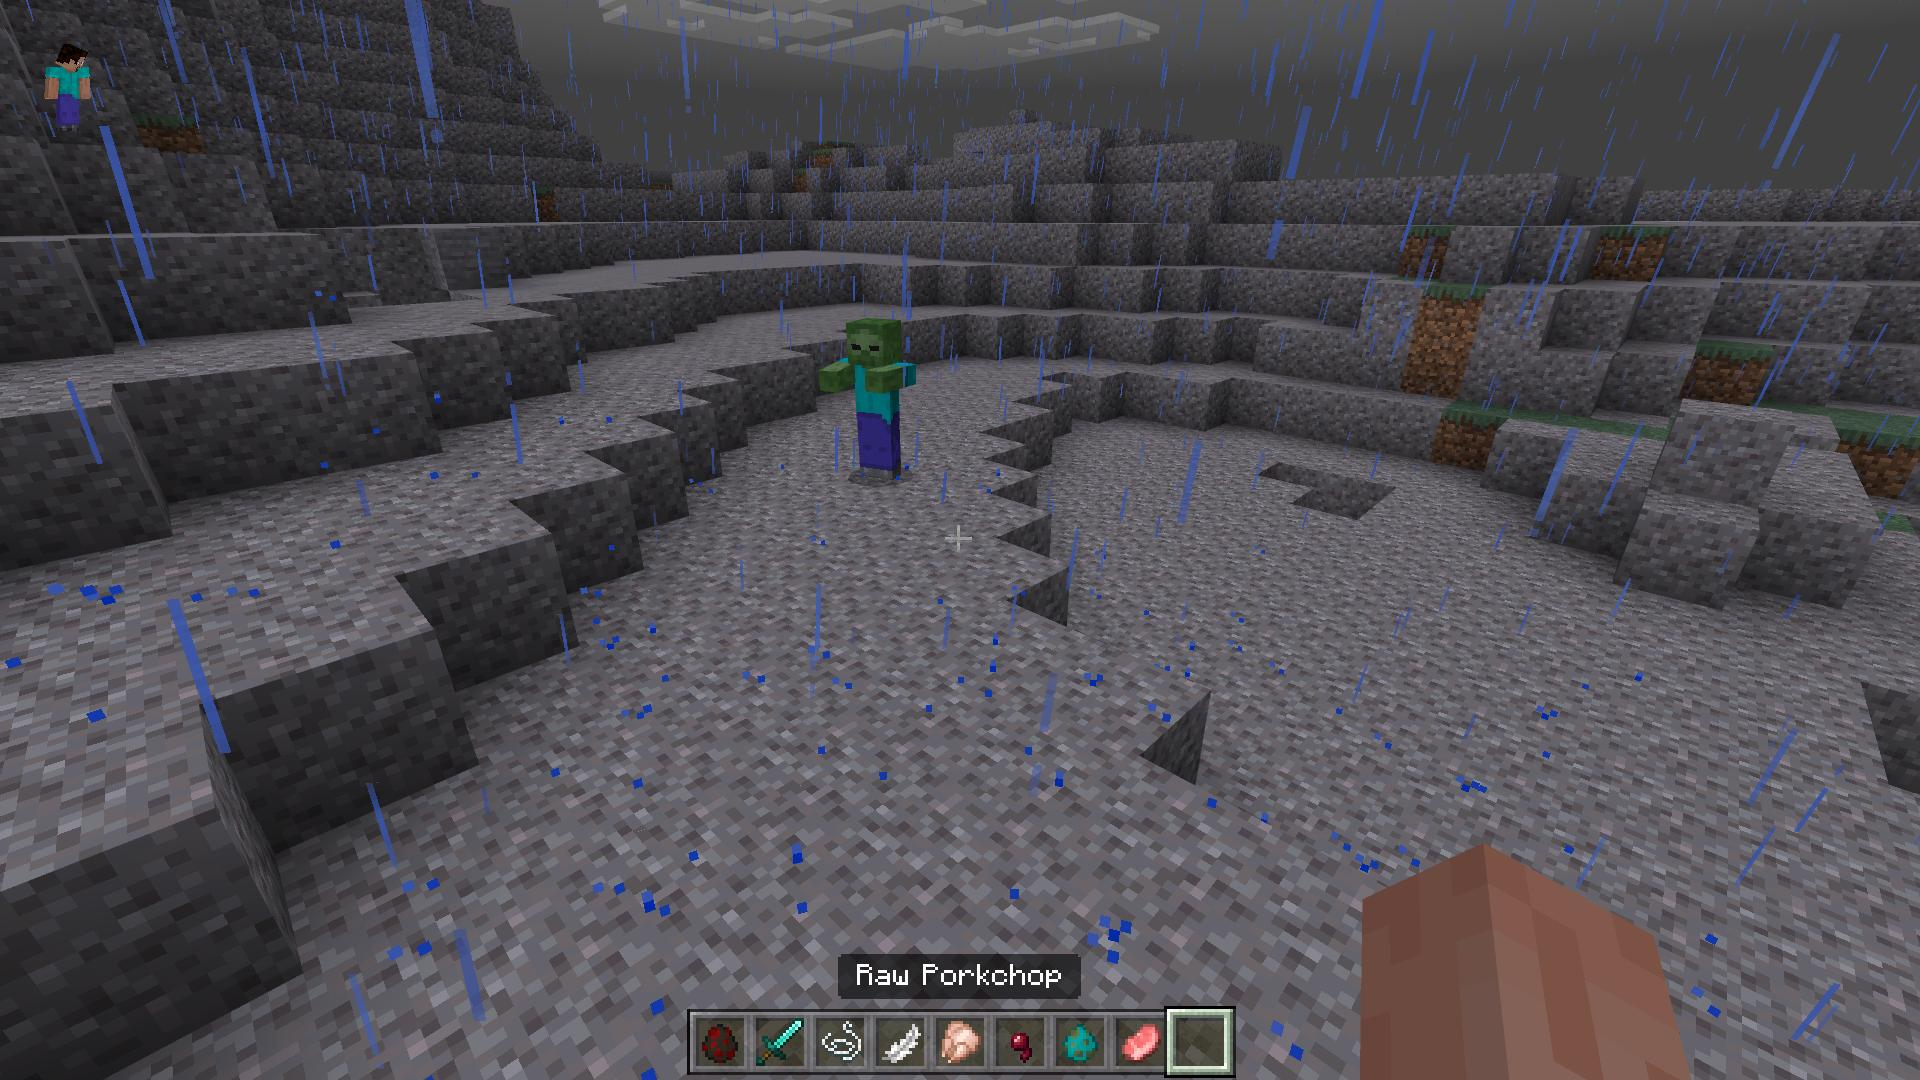zombie: (820, 314, 916, 484)
